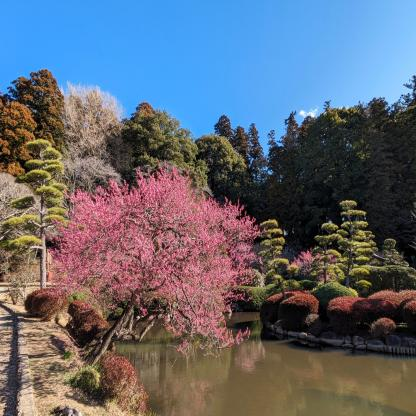Ume: (47, 160, 267, 366)
